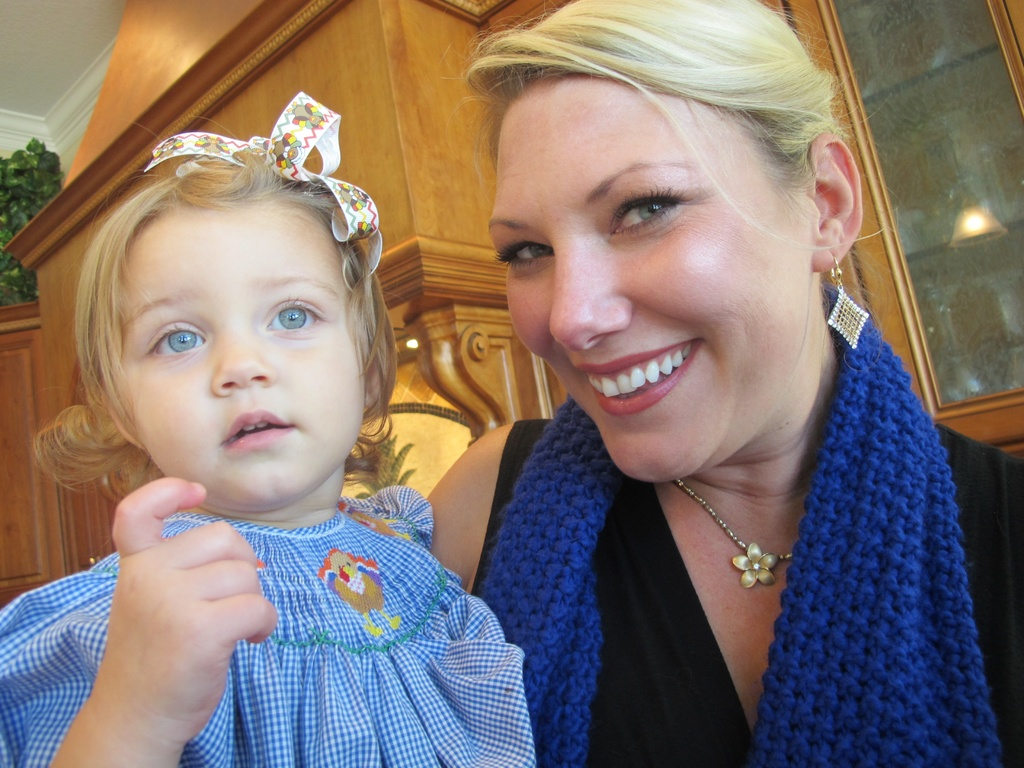Human-face: (485, 81, 809, 486), (113, 202, 364, 509)
